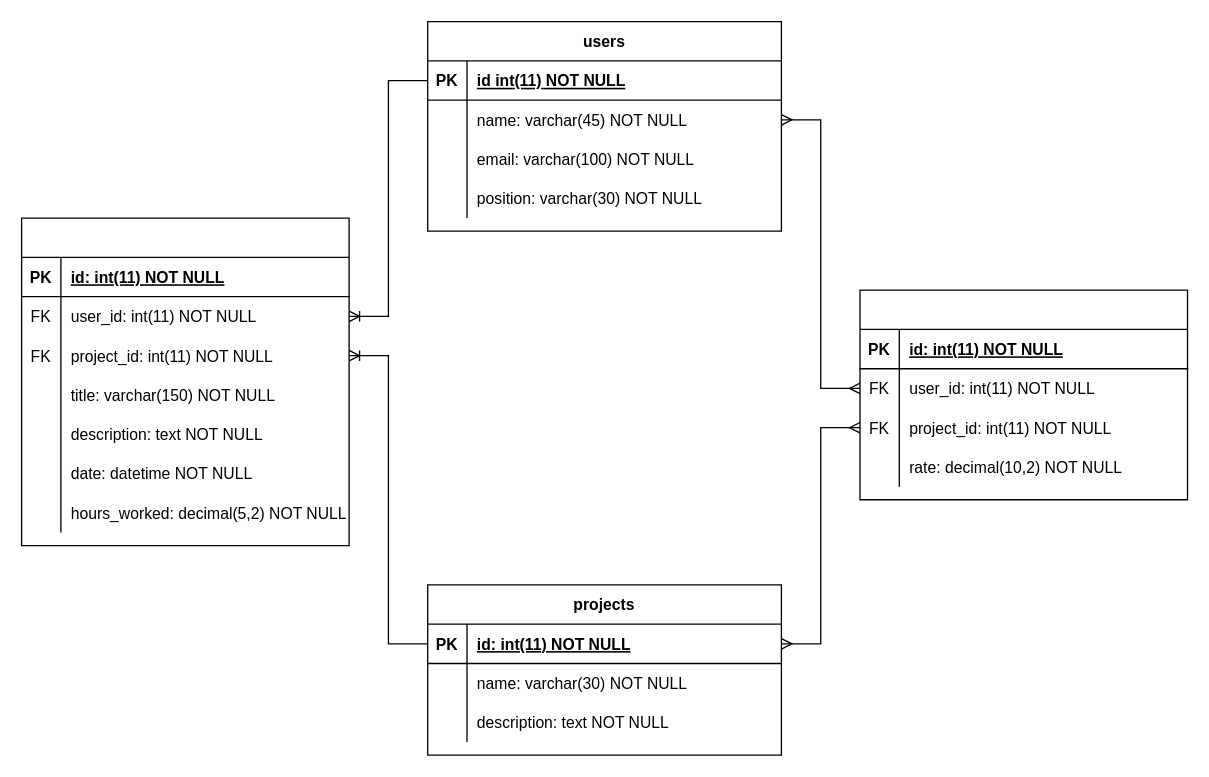
Some shapes in this 1209 by 777 pixel diagram are drawn without their labels. Here are the shapes that lost their labels. From the top down, the box of each, then its label:
(20, 217, 349, 546): tasks
(859, 289, 1188, 500): user_projects
